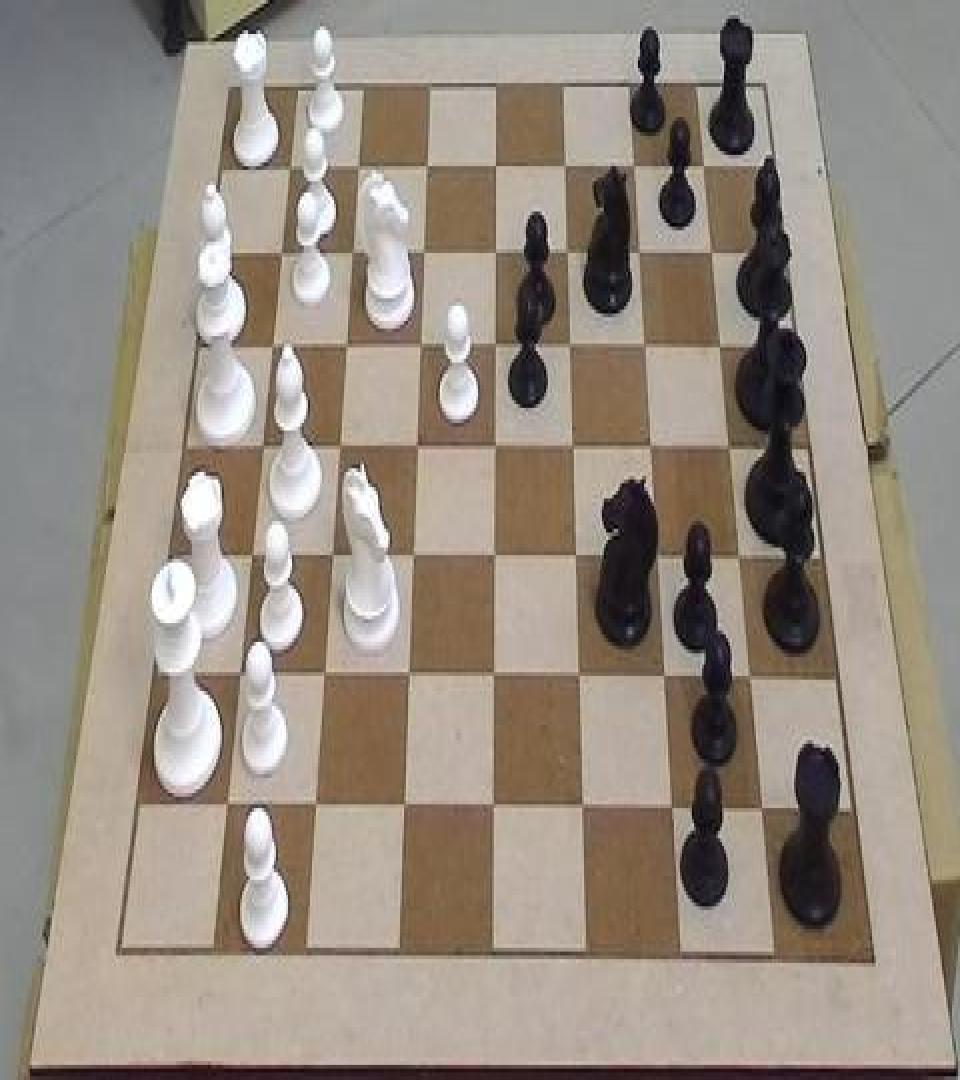xcorner: (691, 146, 711, 184), (621, 146, 641, 184), (552, 146, 572, 184), (483, 146, 503, 184), (414, 146, 434, 184), (345, 146, 365, 184), (276, 146, 296, 184), (699, 230, 719, 268), (627, 230, 647, 268), (555, 230, 575, 268), (483, 232, 503, 270), (411, 232, 431, 270), (339, 232, 359, 270), (268, 232, 288, 270), (708, 324, 728, 362), (633, 324, 653, 362), (558, 324, 578, 362), (483, 324, 503, 362), (408, 324, 428, 362), (333, 324, 353, 362), (259, 324, 279, 362), (718, 426, 738, 464), (639, 426, 659, 464), (561, 426, 581, 464), (482, 424, 502, 462), (404, 424, 424, 462), (327, 424, 347, 462), (249, 424, 269, 462), (728, 536, 748, 574), (646, 536, 666, 574), (564, 536, 584, 574), (482, 536, 502, 574), (401, 536, 421, 574), (320, 534, 340, 572), (239, 534, 259, 572), (740, 659, 760, 697), (654, 657, 674, 695), (568, 657, 588, 695), (482, 657, 502, 695), (397, 655, 417, 693), (312, 655, 332, 693), (227, 655, 247, 693), (753, 791, 773, 829), (662, 791, 682, 829), (572, 789, 592, 827), (482, 789, 502, 827), (393, 787, 413, 825), (303, 787, 323, 825), (215, 787, 235, 825)
